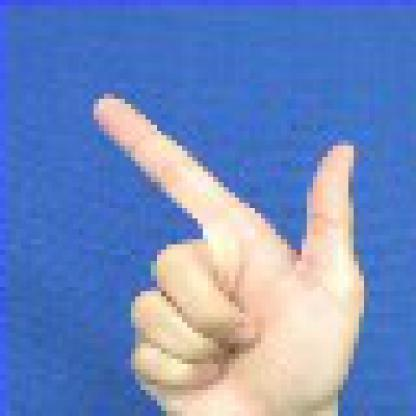seven: (57, 78, 406, 411)
